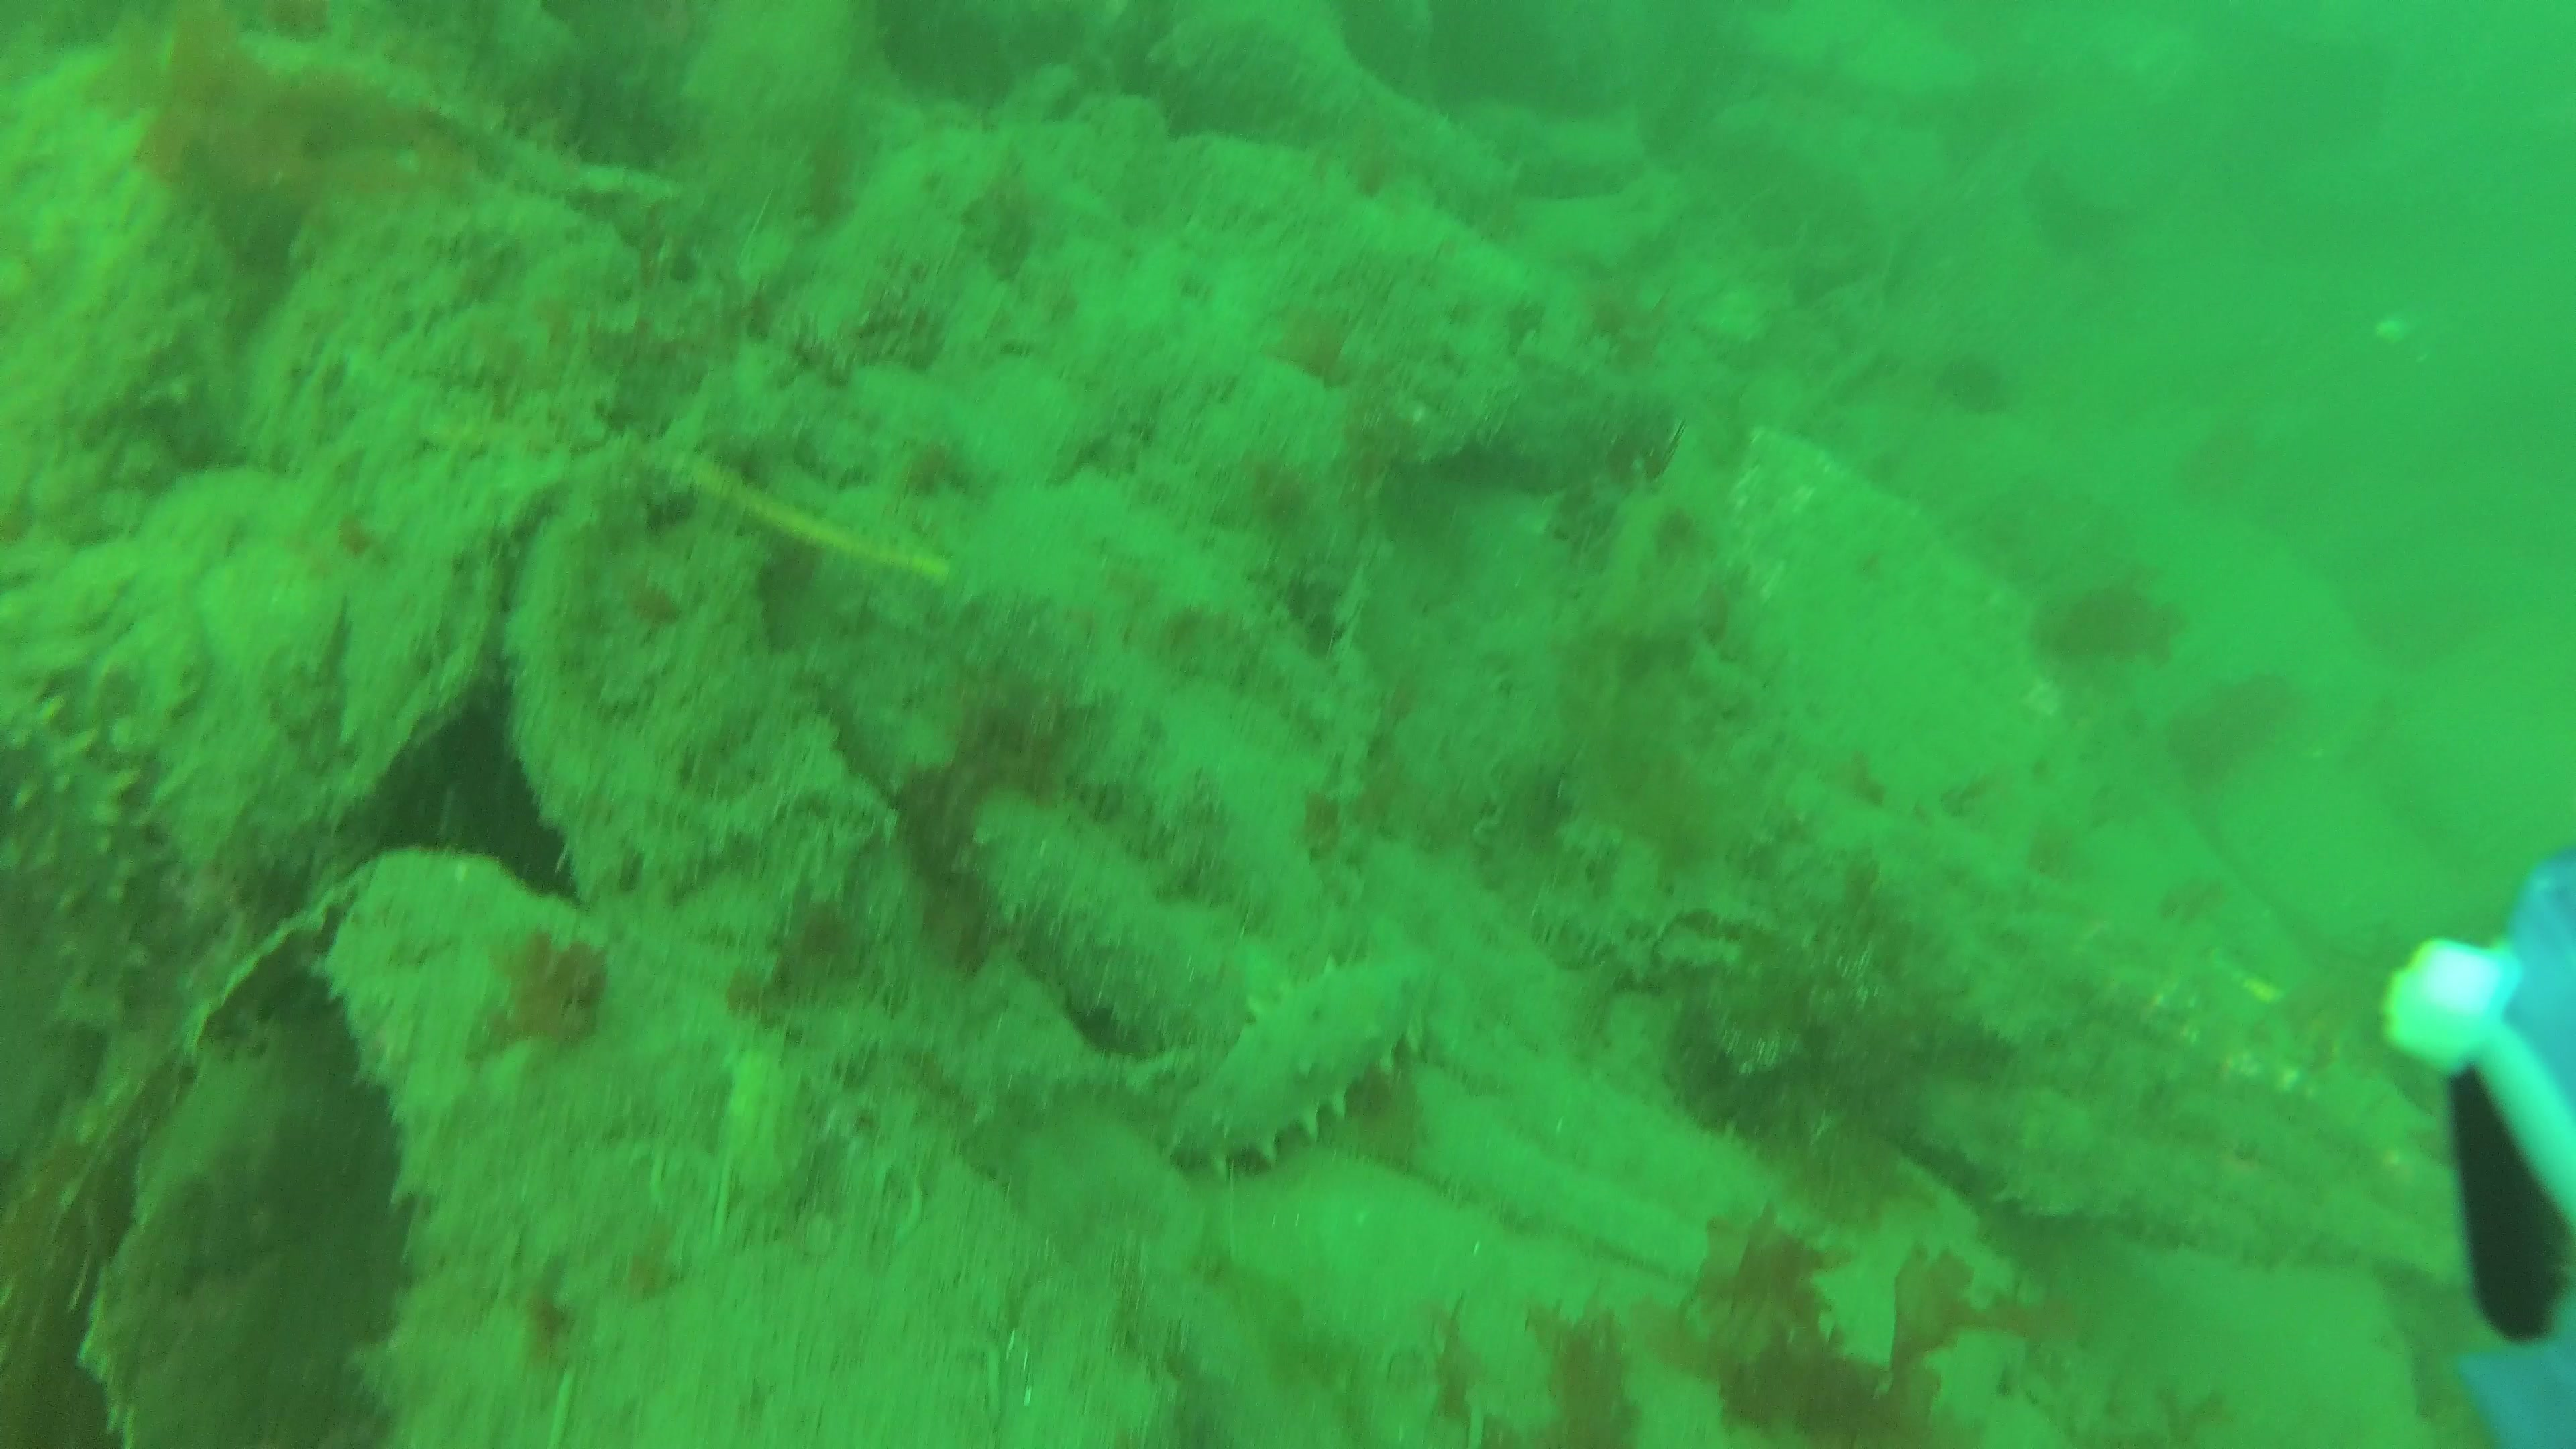holothurian: (1173, 950, 1431, 1184)
